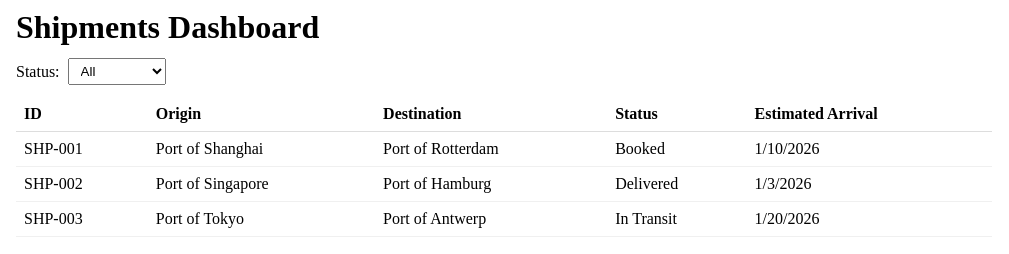
Test: ShipmentsPage › filters shipments by status
expect the text "SHP-001" is shown: met, box [16,132,148,166]
Select "Delivered" in the dropdown named "Filter by status" at coordinates (117, 72), box [68,58,166,85]
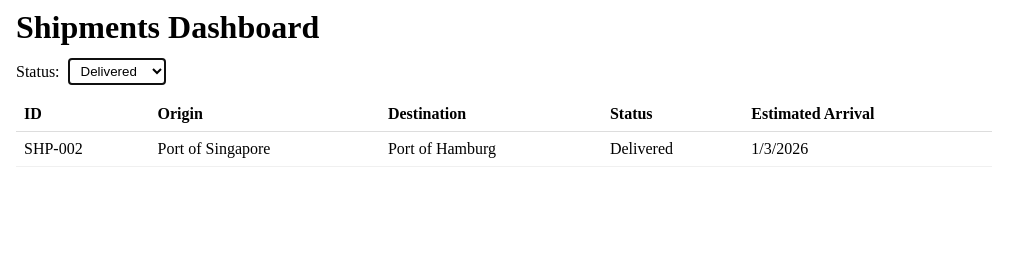
expect the text "SHP-002" is shown: met, box [16,132,150,166]
expect the text "SHP-001" is gone: met
expect the text "SHP-003" is gone: met
